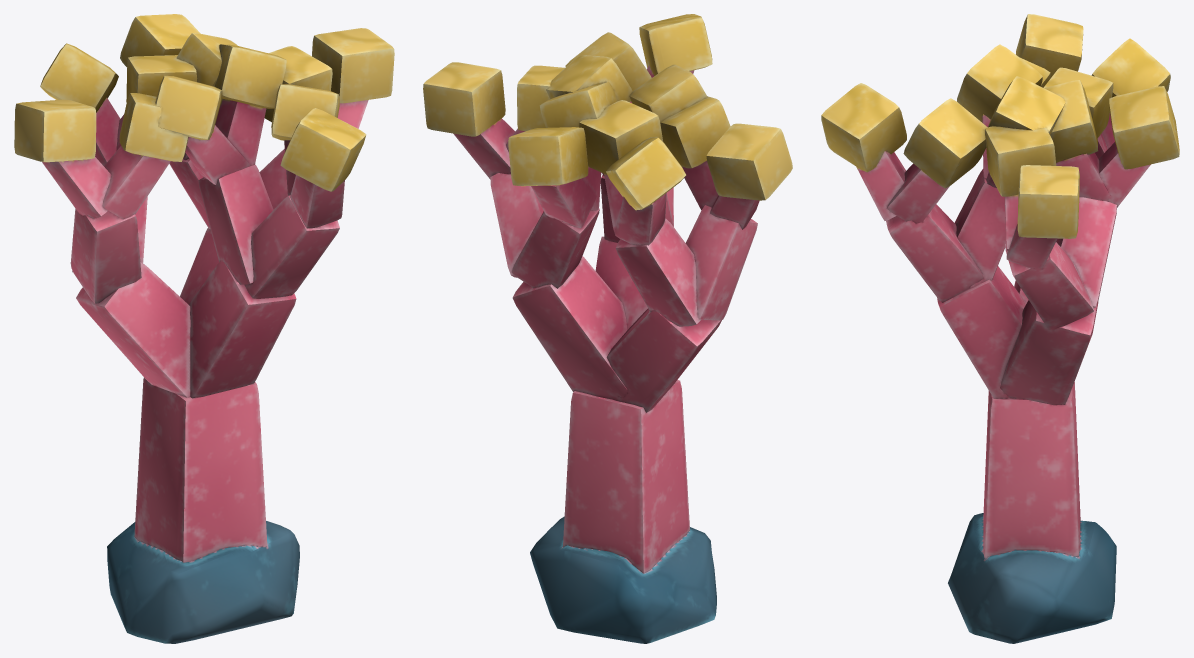
The model's file is Abysses_Corail.fbx.
3 views of the same model, side by side, from view 1: azimuth 30°, elevation 25°; view 2: azimuth 150°, elevation 25°; view 3: azimuth 270°, elevation 25° (orthographic). The views are drawn at different scales.
Parts seen in each view (by area): view 1: Abysses_Corail; view 2: Abysses_Corail; view 3: Abysses_Corail.
Part boxes in pixels (box(x1,y1,x2,y2)): Abysses_Corail: box(14, 14, 394, 643); Abysses_Corail: box(423, 14, 792, 643); Abysses_Corail: box(821, 14, 1179, 643).
Size of the model in its own units: 477 by 721 by 432.
1 material, 1 textured.
